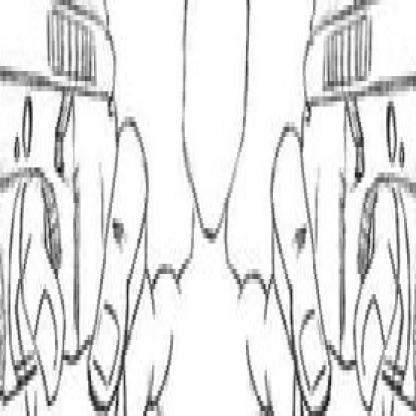gun: (0, 0, 133, 411), (290, 0, 414, 411)
